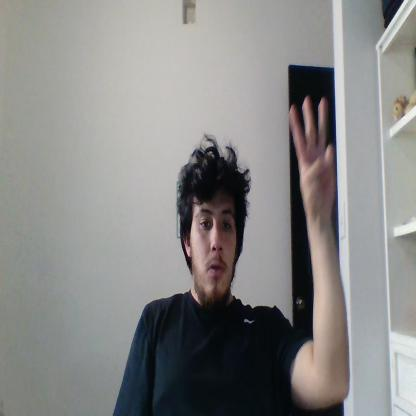W: (289, 96, 336, 218)
